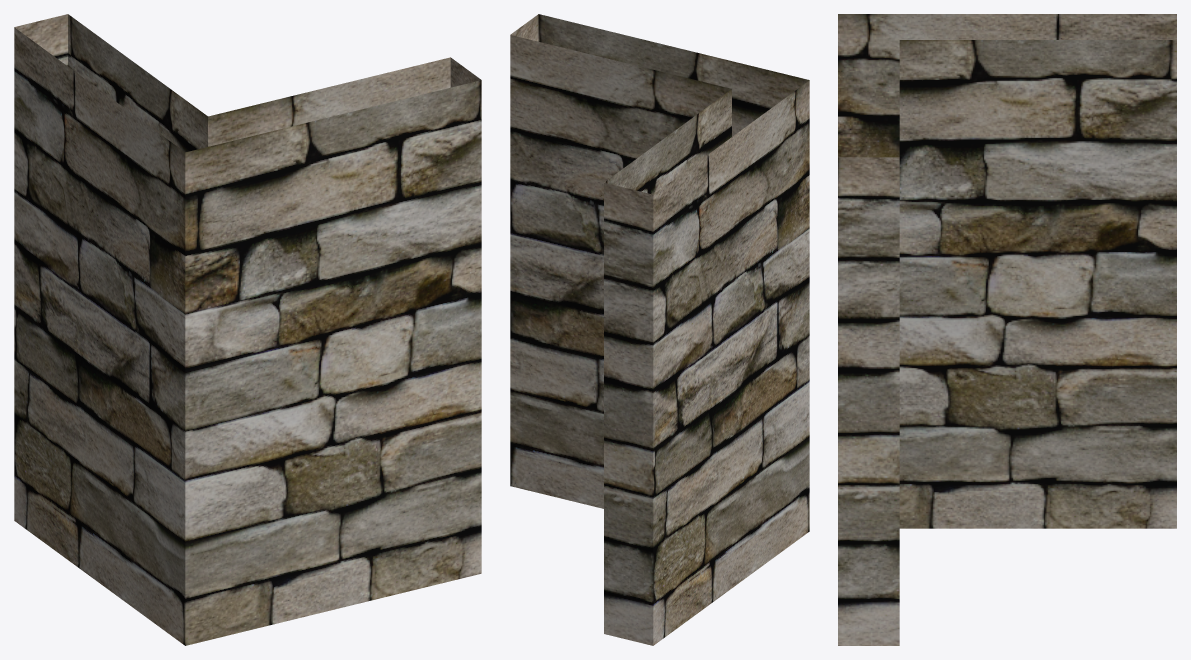
Rendered from Corner_wall.fbx.
3 renders of one model, left to right at view 1: azimuth 30°, elevation 25°; view 2: azimuth 150°, elevation 25°; view 3: azimuth 270°, elevation 25°, orthographic. The views are drawn at different scales.
Visible parts, largest first — view 1: Corner; view 2: Corner; view 3: Corner.
Part boxes in pixels (bbox=[...]): Corner: bbox=[14, 14, 481, 645]; Corner: bbox=[510, 14, 809, 645]; Corner: bbox=[838, 14, 1176, 645].
Bounding box in the file's own units: 2.2 × 3.5 × 2.2.
